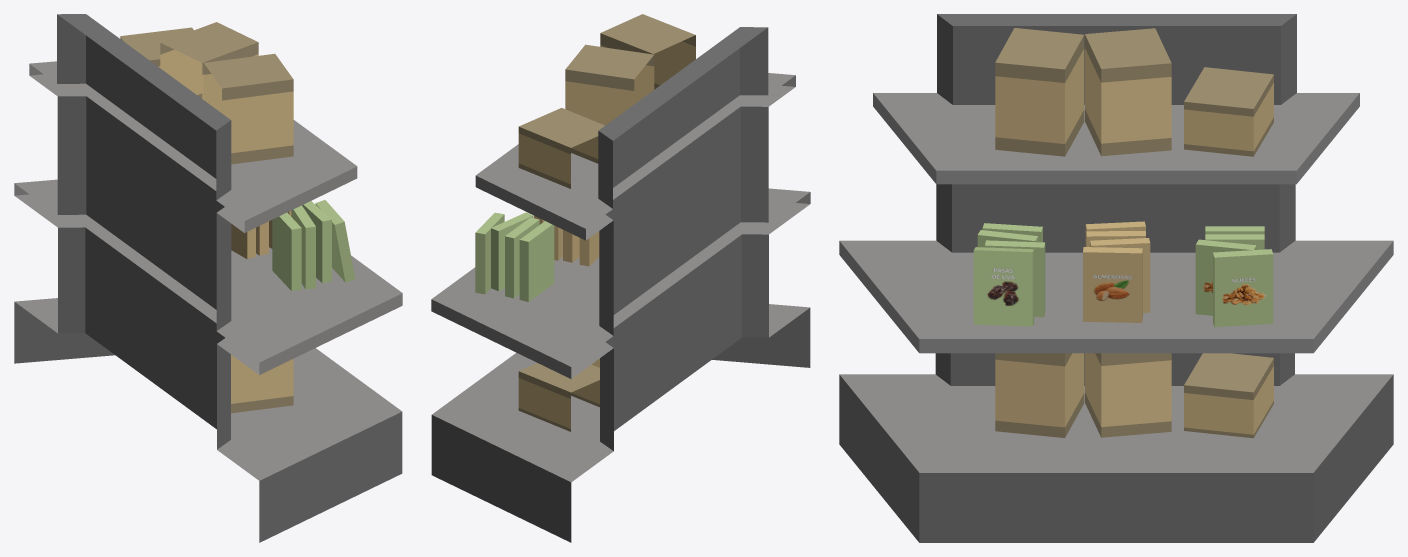
Rendered from gondolaFrutosSecos.fbx.
3 renders of one model, left to right at view 1: azimuth 30°, elevation 25°; view 2: azimuth 150°, elevation 25°; view 3: azimuth 270°, elevation 25°, orthographic. The views are drawn at different scales.
Parts seen in each view (by area): view 1: Gondola C, Cube, Cube.004, Cube.005, Cube.003, Cube.002; view 2: Gondola C, Cube.001, Cube.009, Cube.011, Cube.010, Cube.002, Cube.006; view 3: Gondola C, Cube.005, Cube.011, Cube.008, Cube.010, Cube.004, Cube.007.
Part boxes in pixels (box(x1,y1,x2,y2)): Gondola C: box(14, 14, 402, 542); Cube: box(272, 212, 301, 291); Cube.004: box(302, 201, 331, 282); Cube.005: box(315, 200, 355, 282); Cube.003: box(291, 205, 315, 289); Cube.002: box(231, 224, 255, 259); Gondola C: box(431, 14, 810, 542); Cube.001: box(519, 221, 554, 301); Cube.009: box(505, 217, 539, 298); Cube.011: box(475, 212, 504, 294); Cube.010: box(491, 212, 533, 291); Cube.002: box(579, 231, 599, 266); Cube.006: box(563, 230, 579, 262); Gondola C: box(839, 14, 1393, 542); Cube.005: box(973, 247, 1034, 326); Cube.011: box(1213, 249, 1273, 327); Cube.008: box(1083, 247, 1142, 322); Cube.010: box(1195, 239, 1256, 315); Cube.004: box(985, 240, 1045, 317); Cube.007: box(1090, 238, 1150, 312).
Bounding box in the file's own units: 58.92 × 122 × 140.
Materials: 7 (3 with a texture image).
